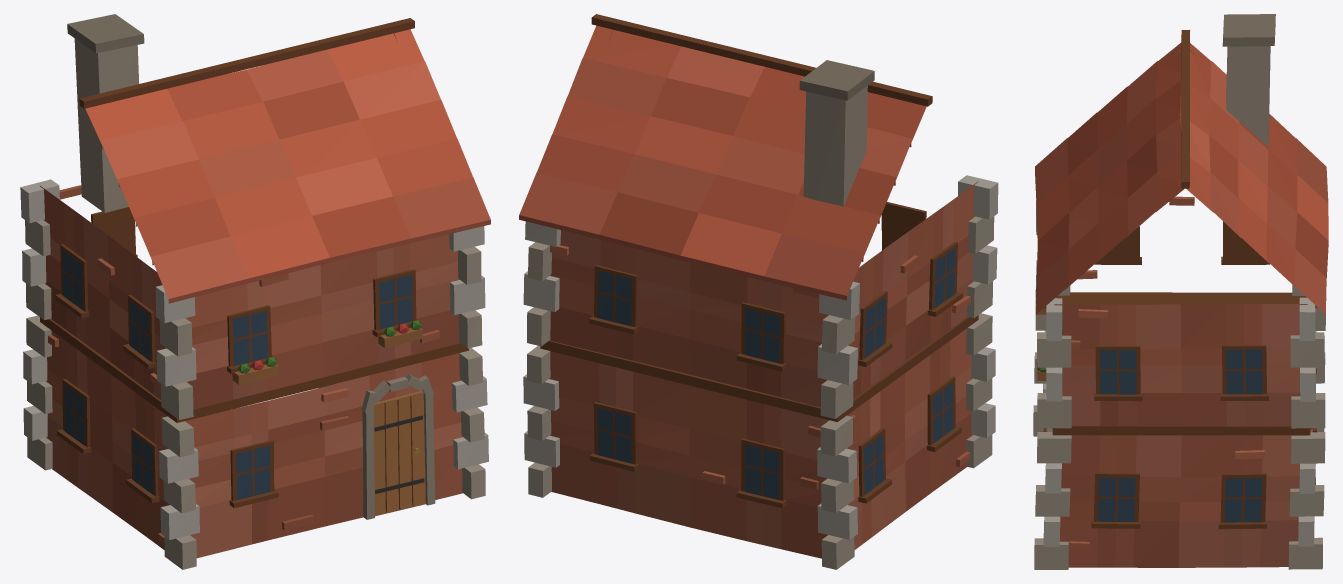
File: brick-house-2.glb
3 views of the same model, side by side, from view 1: azimuth 30°, elevation 25°; view 2: azimuth 150°, elevation 25°; view 3: azimuth 270°, elevation 25° (orthographic). The views are drawn at different scales.
Visible parts, largest first — view 1: buildings/brick-house-2; view 2: buildings/brick-house-2; view 3: buildings/brick-house-2.
Boxes of the visible parts, bbox=[...] form: buildings/brick-house-2: bbox=[20, 14, 490, 569]; buildings/brick-house-2: bbox=[519, 14, 998, 569]; buildings/brick-house-2: bbox=[1033, 14, 1328, 569].
Size of the model in its own units: 5.95 by 7.7 by 4.87.
